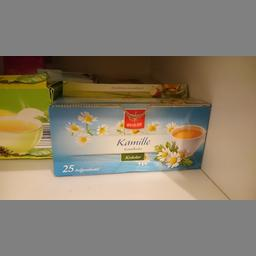tea: (48, 93, 210, 176)
